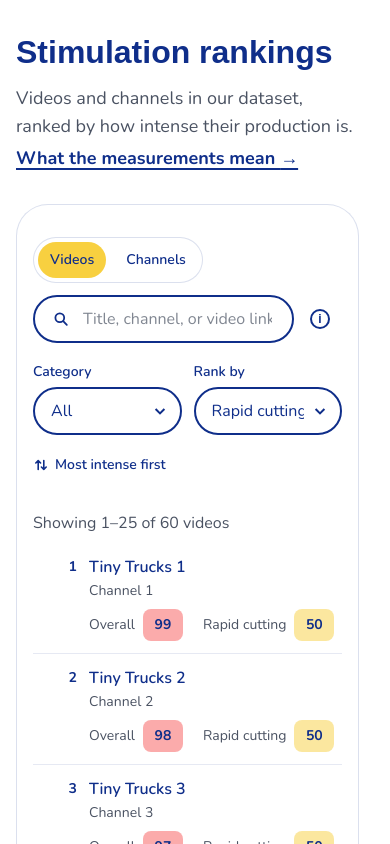
Test: RankingsPage › shows cards below lg, ranked with a select and the order button
Expected: the text "Overall" is shown, [89,615,135,634]
Expected: the text "Rapid cutting" is shown, [203,615,286,634]
Select "Overall" in the dropdown labelled "Rank by": (268, 411) [194,387,342,435]
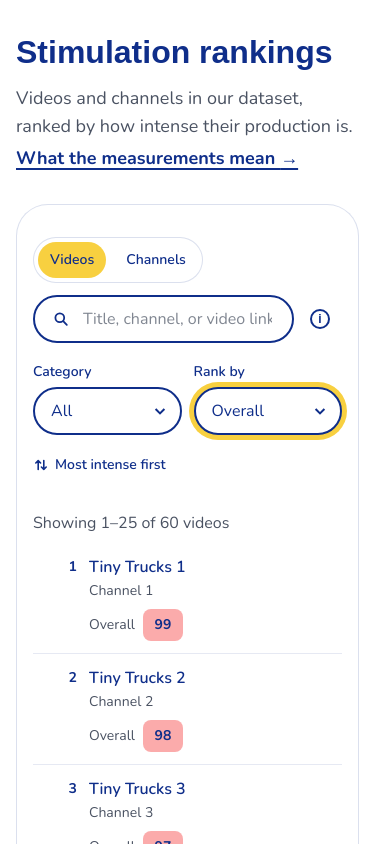
Click the button with aria-label "Order:": (99, 465) [21,443,178,487]
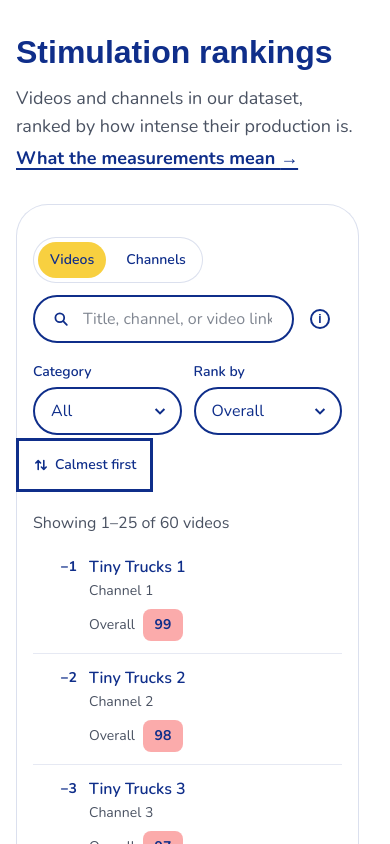
Now the button with aria-label "Order:" reads "Calmest first", box [21,443,148,487]
